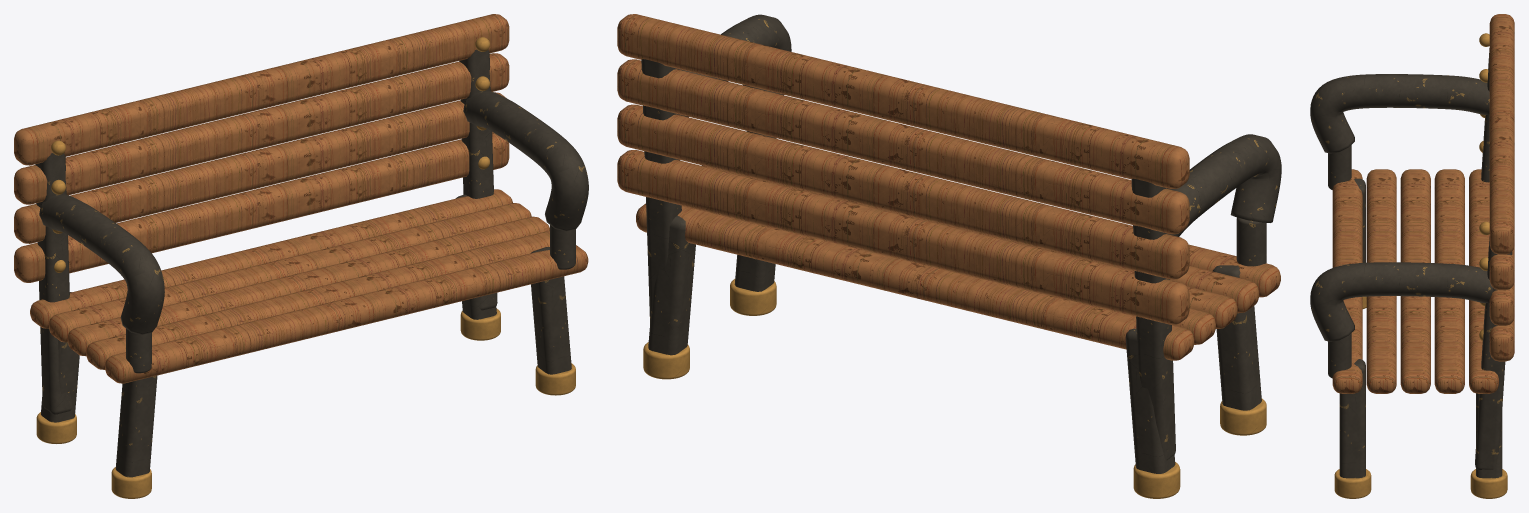
Rendered from S6_长椅_分享包版.glb.
The picture shows the model from 3 angles, left to right: view 1: azimuth 30°, elevation 25°; view 2: azimuth 150°, elevation 25°; view 3: azimuth 270°, elevation 25°; orthographic projection. The views are drawn at different scales.
Parts seen in each view (by area): view 1: Rounded back oak slat.003, Rounded back oak slat.002, Rounded back oak slat.001, Rounded back oak slat, Seat oak slat, Seat oak slat.002, Seat oak slat.003, Seat oak slat.001, Seat oak slat.004, Curved armrest, Curved armrest.001, Back support (+10 smaller); view 2: Rounded back oak slat.003, Rounded back oak slat, Rounded back oak slat.001, Rounded back oak slat.002, Seat oak slat.004, Curved armrest, Back support, Cast iron foot.003, Cast iron foot, Back support.001, Cast iron foot.001, Seat oak slat.001 (+10 smaller); view 3: Curved armrest.001, Curved armrest, Rounded back oak slat.003, Seat oak slat.001, Seat oak slat.002, Seat oak slat.003, Seat oak slat, Seat oak slat.004, Back support.001, Cast iron foot.002, Rounded back oak slat.002, Rounded back oak slat (+8 smaller).
Boxes of the visible parts, <box> form: Rounded back oak slat.003: <box>14,14,509,165</box>; Rounded back oak slat.002: <box>14,53,509,204</box>; Rounded back oak slat.001: <box>14,92,505,243</box>; Rounded back oak slat: <box>14,131,509,282</box>; Seat oak slat: <box>105,245,588,383</box>; Seat oak slat.002: <box>67,216,549,356</box>; Seat oak slat.003: <box>49,203,531,342</box>; Seat oak slat.001: <box>86,230,549,369</box>; Seat oak slat.004: <box>30,189,512,328</box>; Curved armrest: <box>39,193,164,334</box>; Curved armrest.001: <box>463,90,588,231</box>; Back support: <box>35,153,72,414</box>; Rounded back oak slat.003: <box>617,14,1189,188</box>; Rounded back oak slat: <box>617,149,1189,324</box>; Rounded back oak slat.001: <box>617,104,1189,279</box>; Rounded back oak slat.002: <box>617,59,1189,234</box>; Seat oak slat.004: <box>636,203,1194,360</box>; Curved armrest: <box>1167,134,1281,236</box>; Back support: <box>1131,178,1175,460</box>; Cast iron foot.003: <box>648,215,695,355</box>; Cast iron foot: <box>1212,265,1261,410</box>; Back support.001: <box>641,59,681,323</box>; Cast iron foot.001: <box>1125,328,1175,473</box>; Seat oak slat.001: <box>701,165,1259,313</box>; Curved armrest.001: <box>1310,262,1493,341</box>; Curved armrest: <box>1310,74,1489,153</box>; Rounded back oak slat.003: <box>1489,14,1514,254</box>; Seat oak slat.001: <box>1366,169,1396,393</box>; Seat oak slat.002: <box>1400,169,1430,393</box>; Seat oak slat.003: <box>1434,169,1464,393</box>; Seat oak slat: <box>1332,169,1362,393</box>; Seat oak slat.004: <box>1469,169,1498,393</box>; Back support.001: <box>1475,236,1512,469</box>; Cast iron foot.002: <box>1339,359,1365,478</box>; Rounded back oak slat.002: <box>1489,246,1514,290</box>; Rounded back oak slat: <box>1489,318,1514,361</box>.
Bounding box in the file's own units: 1.96 × 1.17 × 0.7801.
3 materials, 3 textured.
